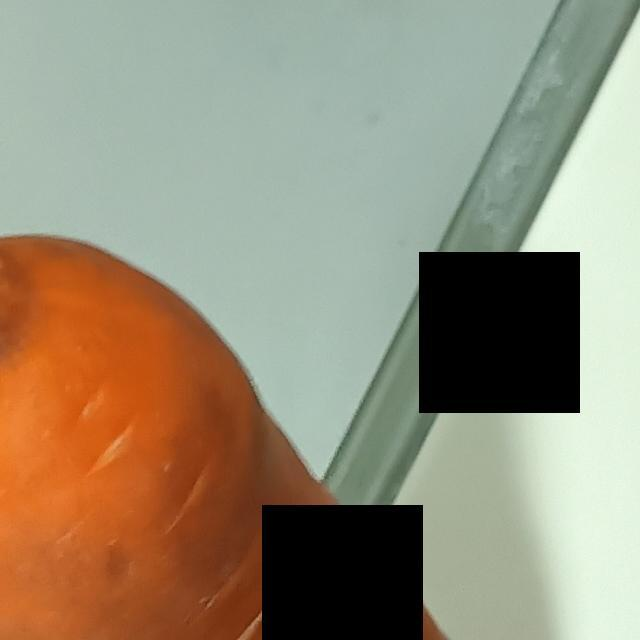carrot: (1, 222, 578, 640)
